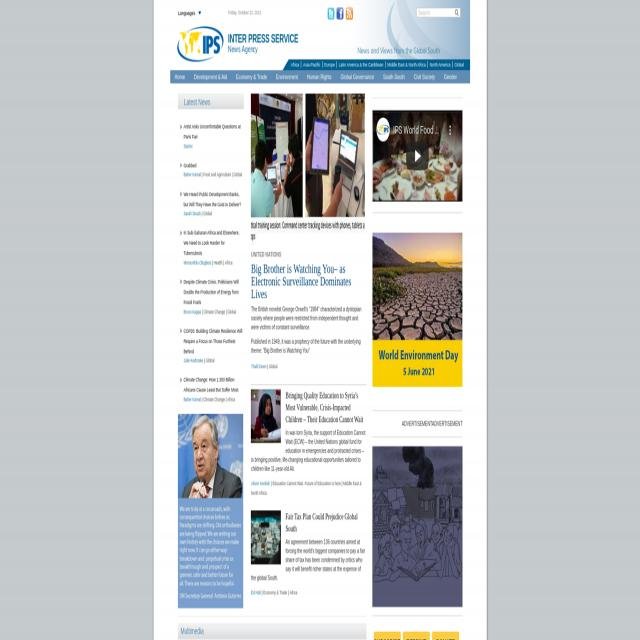button: (251, 93, 365, 244), (373, 447, 463, 607), (372, 232, 462, 387), (177, 415, 243, 609), (177, 26, 223, 62), (251, 389, 281, 444), (251, 510, 281, 564), (190, 70, 232, 83), (336, 70, 378, 83), (232, 70, 272, 83), (302, 70, 336, 83), (409, 70, 440, 83), (272, 70, 302, 83), (379, 70, 409, 83), (439, 70, 462, 83), (337, 62, 385, 68), (170, 70, 190, 83), (385, 62, 427, 68), (428, 62, 452, 68), (301, 62, 322, 68), (346, 6, 354, 21), (336, 7, 344, 20), (322, 62, 337, 68), (452, 62, 466, 68), (328, 7, 334, 20), (289, 62, 301, 68)
field: (416, 8, 461, 18)
